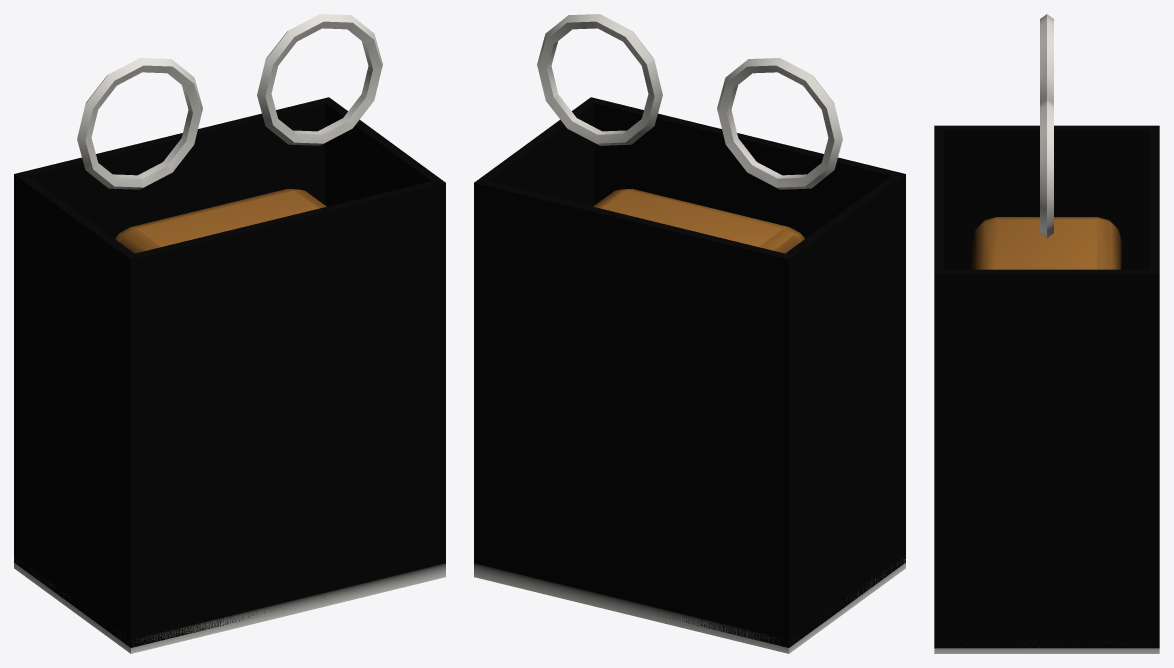
Rendered from shopping_bag.glb.
The picture shows the model from 3 angles, left to right: view 1: azimuth 30°, elevation 25°; view 2: azimuth 150°, elevation 25°; view 3: azimuth 270°, elevation 25°; orthographic projection. The views are drawn at different scales.
Visible parts, largest first — view 1: shopping_bag; view 2: shopping_bag; view 3: shopping_bag.
Boxes of the visible parts, x1,y1,x2,y2 form: shopping_bag: [14, 14, 445, 653]; shopping_bag: [474, 14, 905, 653]; shopping_bag: [934, 14, 1159, 653].
Bounding box in the file's own units: 0.28 × 0.456 × 0.18.
